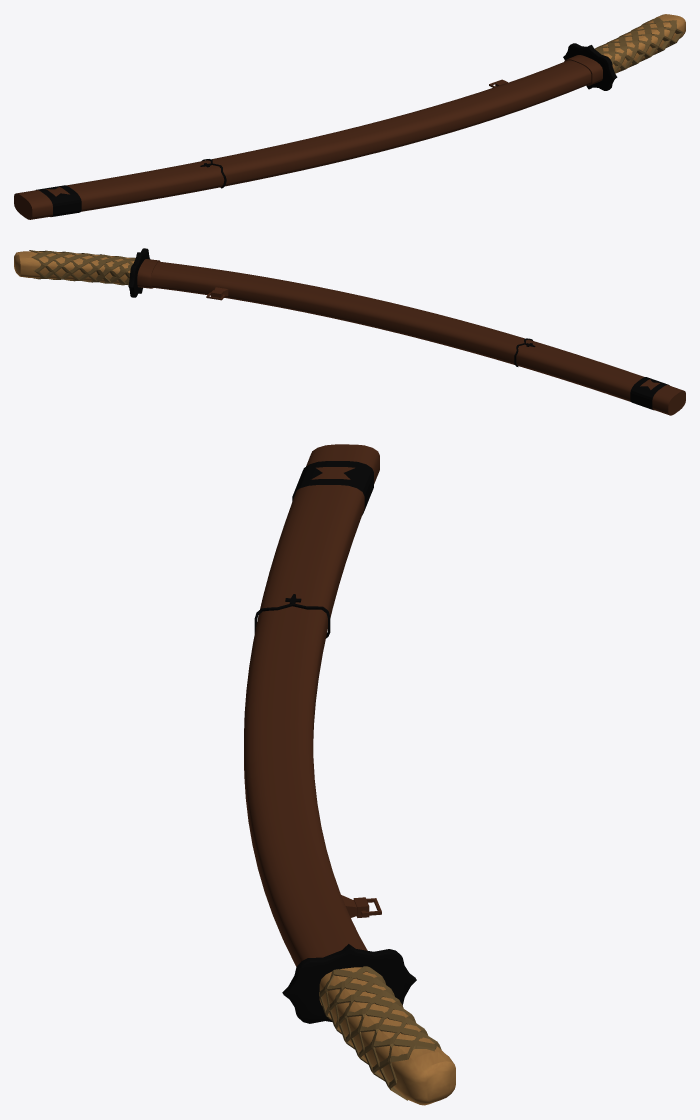
The model's file is Katana_Type98.glb.
The picture shows the model from 3 angles, top to bottom: view 1: azimuth 30°, elevation 25°; view 2: azimuth 150°, elevation 25°; view 3: azimuth 270°, elevation 25°; orthographic projection. The views are drawn at different scales.
Visible parts, largest first — view 1: Katana; view 2: Katana; view 3: Katana.
Boxes of the visible parts, left/top/right/bottom form: Katana: left=14, top=14, right=685, bottom=219; Katana: left=14, top=248, right=685, bottom=415; Katana: left=244, top=444, right=455, bottom=1105.
Size of the model in its own units: 5.13 by 0.3145 by 0.7323.
Materials: 1 (1 with a texture image).
